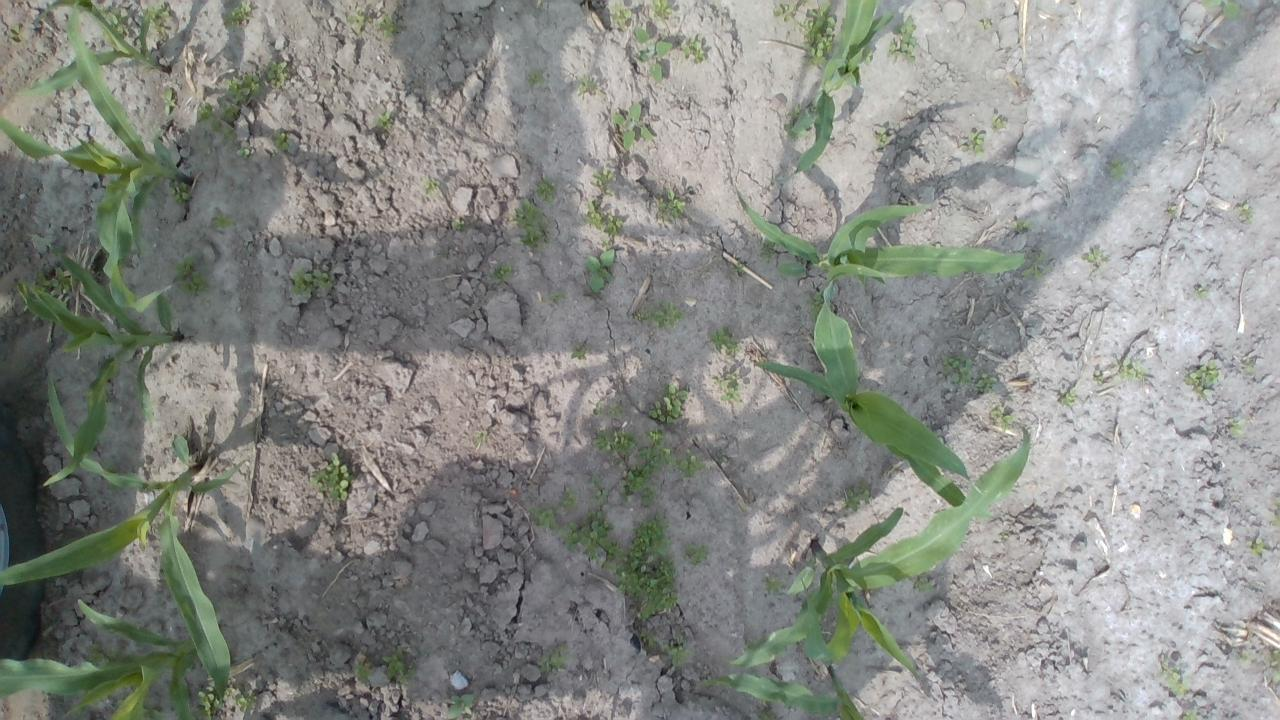Maize: (0, 369, 232, 710), (724, 426, 1032, 680), (0, 0, 193, 314), (754, 275, 995, 519), (22, 243, 182, 489), (735, 188, 1025, 286), (0, 599, 213, 720), (792, 0, 893, 172), (18, 0, 172, 99), (700, 661, 860, 720)
Weeds: (616, 512, 680, 623), (559, 512, 625, 560), (797, 6, 837, 65), (633, 28, 674, 82), (509, 198, 548, 250), (309, 454, 351, 502), (612, 103, 653, 152), (646, 384, 689, 424), (618, 464, 656, 509), (580, 200, 624, 236), (174, 254, 210, 298), (889, 15, 920, 65), (222, 70, 264, 104), (584, 250, 616, 294), (1186, 360, 1220, 400), (291, 266, 334, 296), (195, 686, 230, 720), (639, 428, 672, 464), (592, 430, 636, 457), (34, 266, 74, 295), (784, 104, 818, 138), (649, 299, 684, 330), (940, 352, 971, 386), (382, 654, 416, 683), (673, 448, 704, 479), (1162, 662, 1190, 696), (845, 480, 873, 512), (222, 0, 254, 28), (1114, 357, 1147, 384), (706, 327, 740, 353), (144, 0, 170, 34), (656, 192, 686, 221), (527, 503, 560, 529), (1201, 0, 1241, 21), (662, 640, 694, 666), (86, 642, 120, 666), (713, 373, 741, 402), (540, 645, 570, 672), (445, 694, 475, 720), (1022, 251, 1048, 280), (102, 8, 127, 37), (680, 35, 705, 62), (536, 175, 558, 205), (266, 61, 290, 88), (991, 404, 1014, 431), (168, 180, 193, 204), (612, 0, 632, 29), (376, 15, 401, 38), (344, 7, 368, 30), (684, 543, 710, 564), (775, 260, 805, 278), (808, 290, 824, 322), (353, 658, 373, 683), (759, 239, 778, 264), (592, 479, 610, 505), (590, 167, 616, 185), (975, 372, 997, 393), (235, 692, 258, 712), (195, 102, 218, 122), (1250, 537, 1270, 559), (210, 213, 234, 231), (1107, 159, 1128, 179), (162, 86, 176, 115), (774, 2, 794, 22), (914, 576, 938, 592), (492, 262, 513, 280), (969, 129, 984, 154), (651, 0, 673, 17), (1238, 202, 1255, 224), (560, 487, 578, 507), (376, 110, 394, 130), (272, 130, 289, 151), (766, 576, 785, 594), (576, 77, 594, 96), (526, 70, 544, 88), (422, 175, 440, 192), (222, 104, 240, 121), (640, 629, 656, 647), (546, 290, 566, 304), (874, 125, 888, 145), (1060, 389, 1076, 406), (858, 48, 874, 64), (990, 112, 1006, 128), (1012, 219, 1032, 231), (1231, 421, 1245, 437), (570, 344, 584, 360), (1086, 248, 1102, 262), (606, 404, 624, 416), (601, 559, 616, 573), (592, 399, 604, 416), (1270, 648, 1280, 668), (630, 312, 650, 322), (978, 19, 994, 31), (1092, 370, 1104, 385), (757, 711, 776, 720), (703, 675, 714, 689), (454, 219, 466, 231), (210, 118, 222, 130), (734, 261, 746, 273), (1195, 286, 1207, 298), (238, 148, 252, 158), (1240, 650, 1250, 664), (1246, 361, 1256, 374), (223, 127, 234, 138), (1182, 712, 1197, 720), (1269, 671, 1280, 681), (1272, 515, 1280, 528), (476, 430, 486, 439), (600, 239, 610, 248), (1166, 207, 1176, 214)
